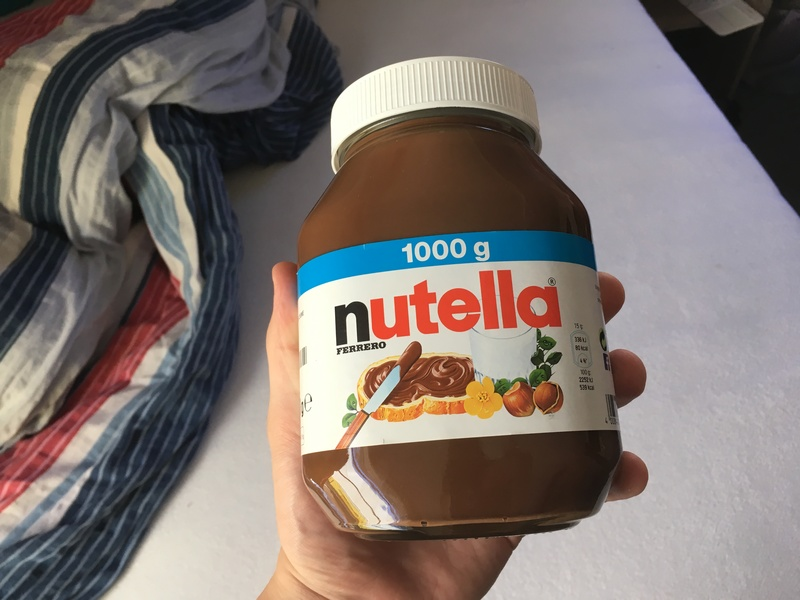nutella: (297, 55, 621, 542)
